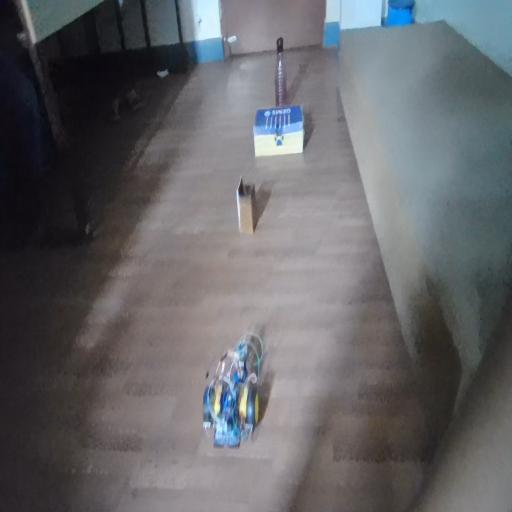Bottle: (265, 30, 300, 109)
car: (192, 334, 276, 457)
